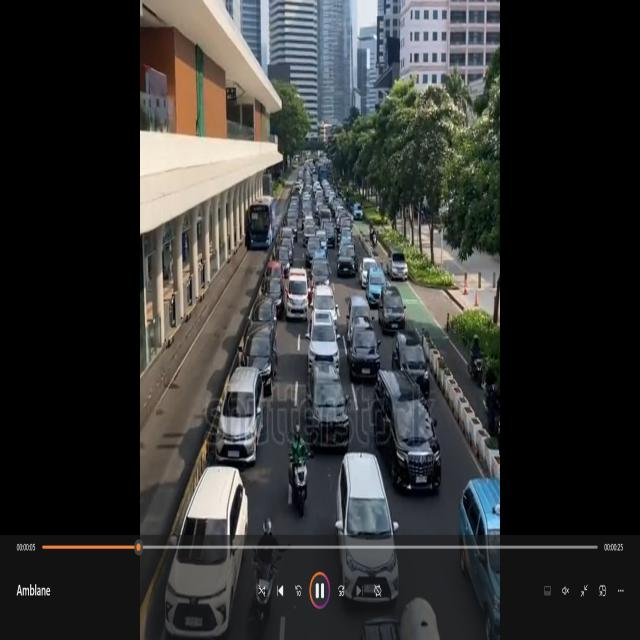Ambulance: (285, 262, 311, 324)
